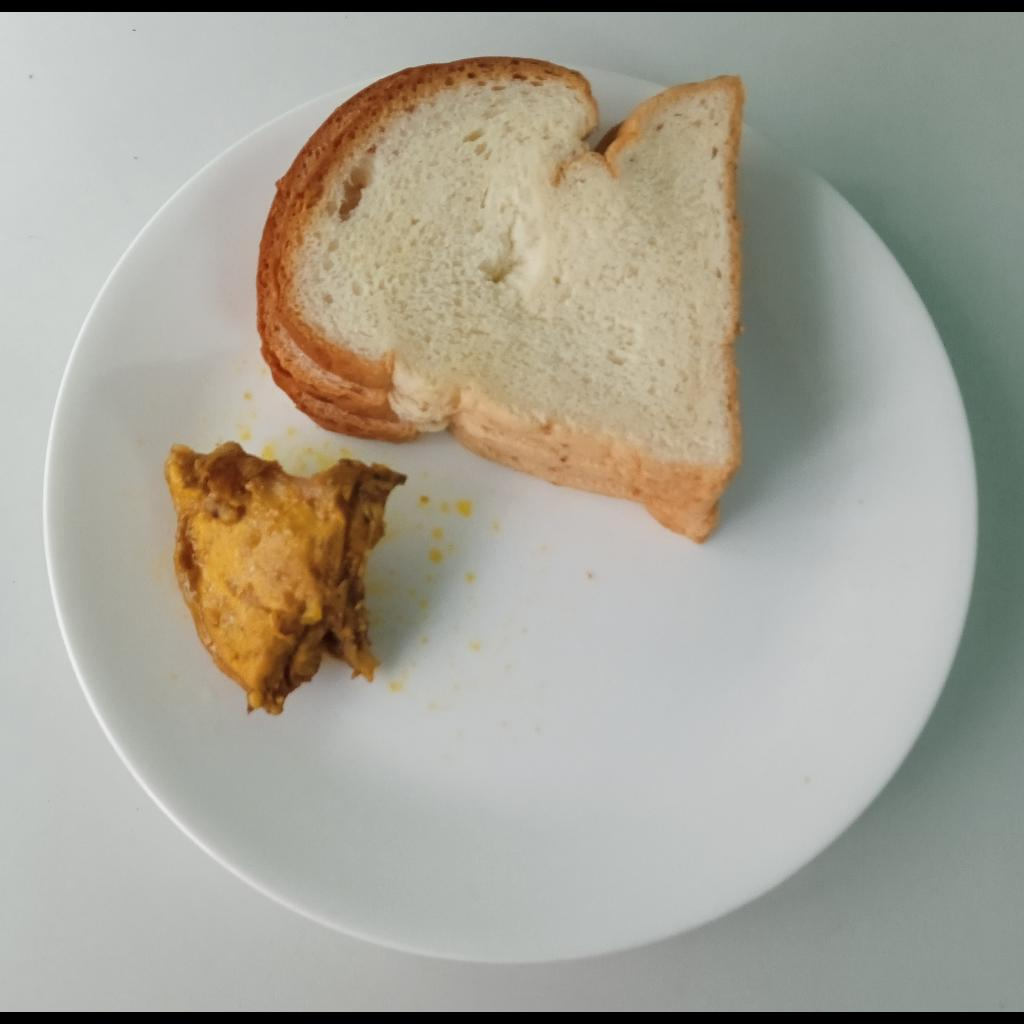bread: (255, 57, 746, 549)
chicken: (168, 438, 408, 716)
